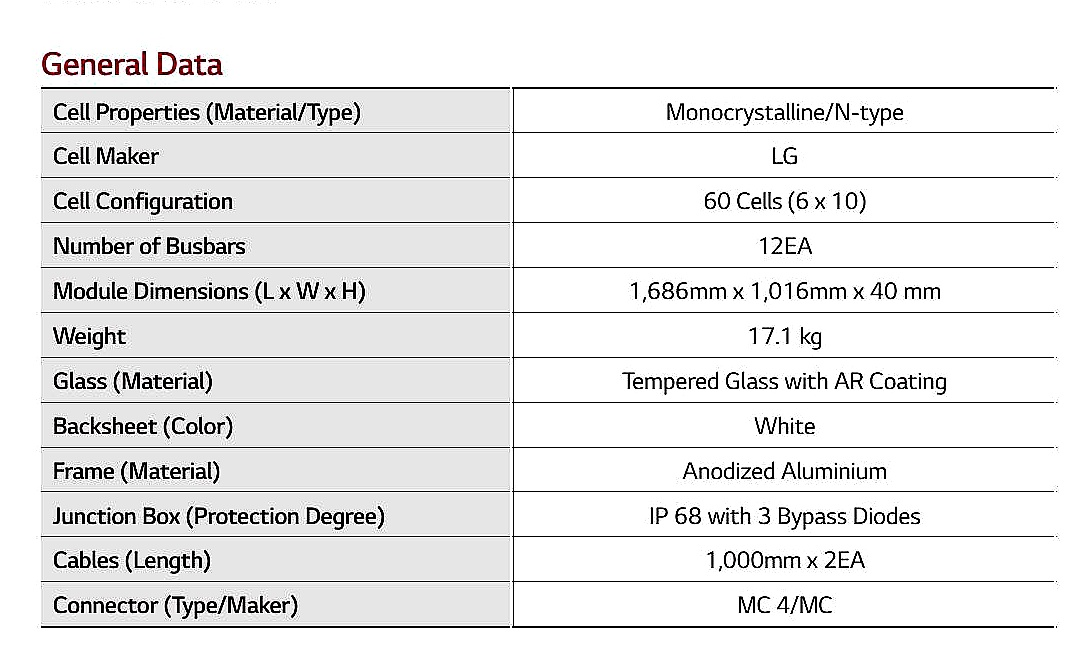table: (20, 41, 1068, 640)
table column: (516, 45, 1058, 628), (33, 45, 514, 631)
table name: (31, 41, 1061, 87)
table row: (34, 538, 1065, 582), (34, 313, 1064, 355), (36, 493, 1063, 535), (34, 133, 1060, 175), (33, 450, 1061, 491), (33, 270, 1068, 310), (33, 585, 1062, 625), (33, 360, 1061, 400), (32, 405, 1059, 445), (31, 92, 1062, 131), (36, 228, 1063, 266), (32, 47, 1058, 85), (36, 180, 1060, 218)
table row header: (33, 45, 511, 631)
table spanning cell: (32, 45, 1061, 90)
